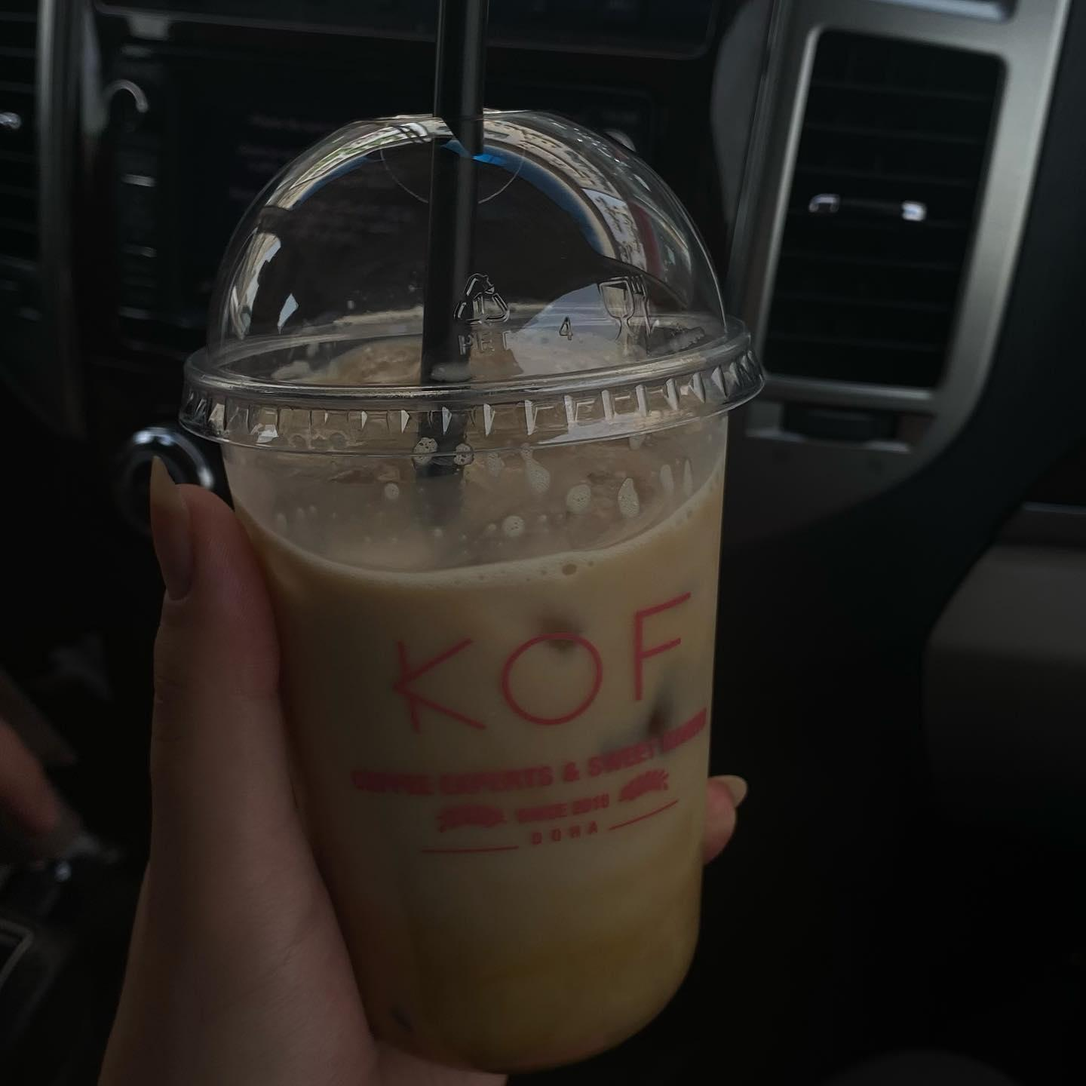cup-disposable: (179, 97, 768, 1067)
